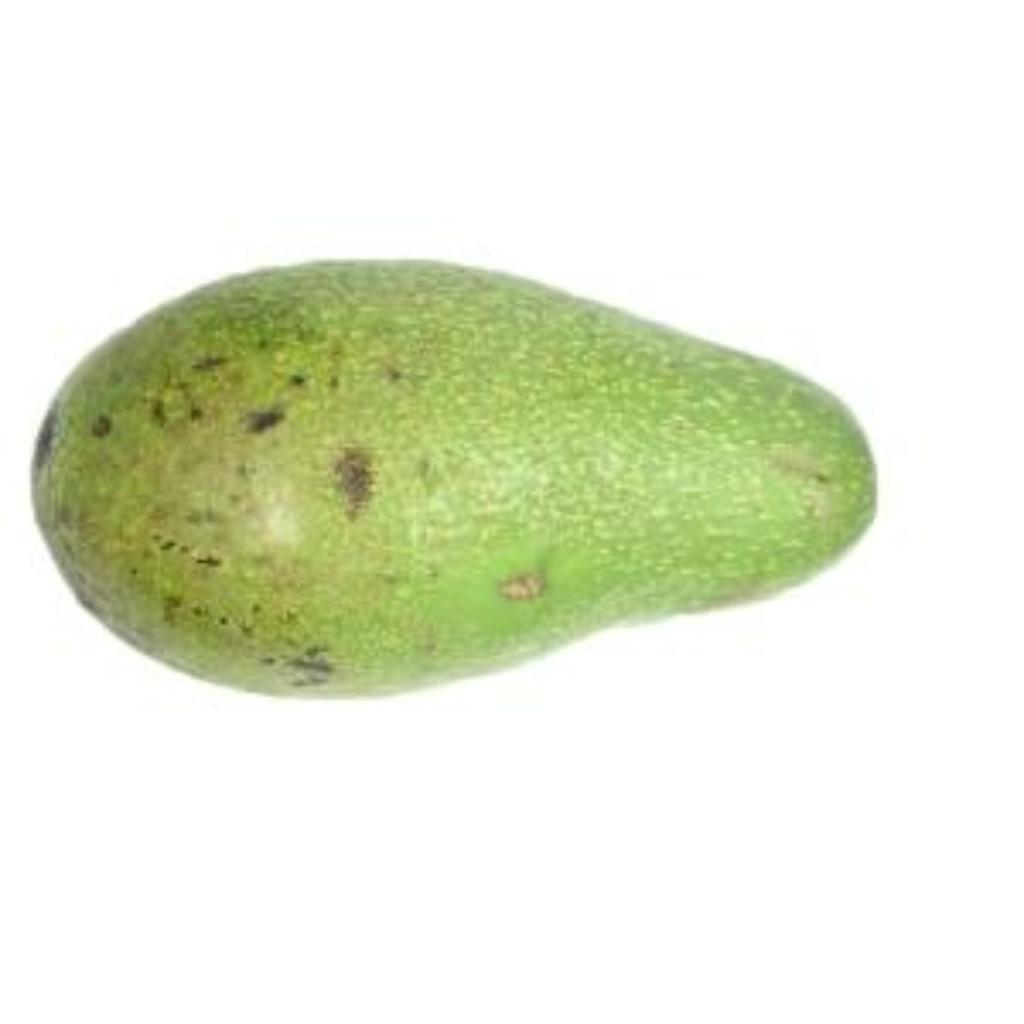cercospora: (20, 247, 894, 701)
